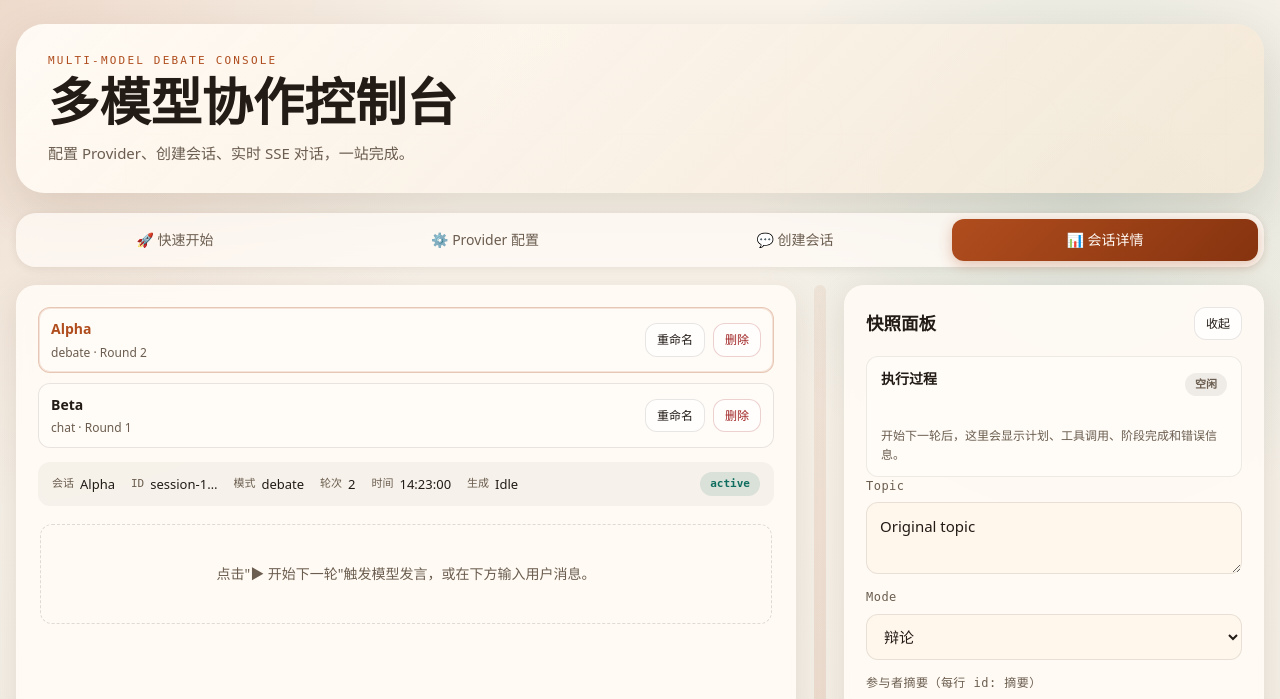
Test case: App session management › shows a current time label and supports renaming and deleting sessions
Click the 1st button "重命名".
click(675, 340)  # box top-left (645, 323), bottom-right (705, 357)
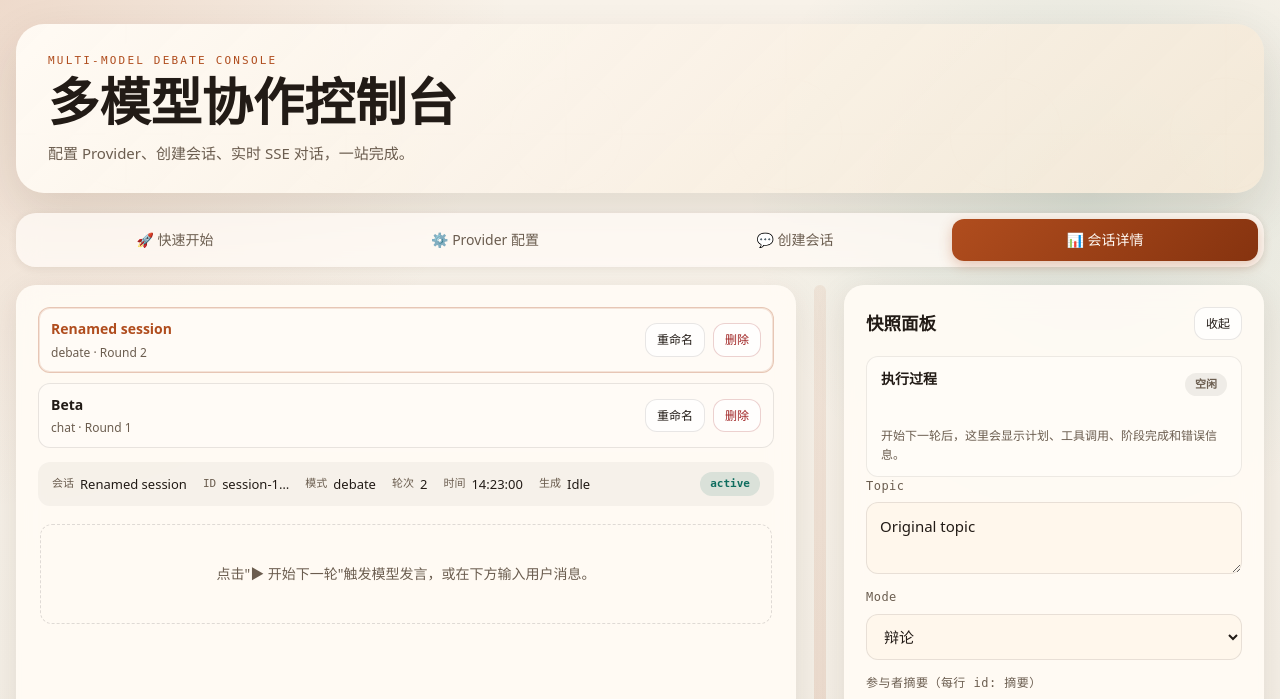
Expected: the text "Renamed session" is shown, top-left (51, 318), bottom-right (172, 341)
Click the 2nd button "删除".
click(737, 416)  # box top-left (713, 399), bottom-right (761, 432)
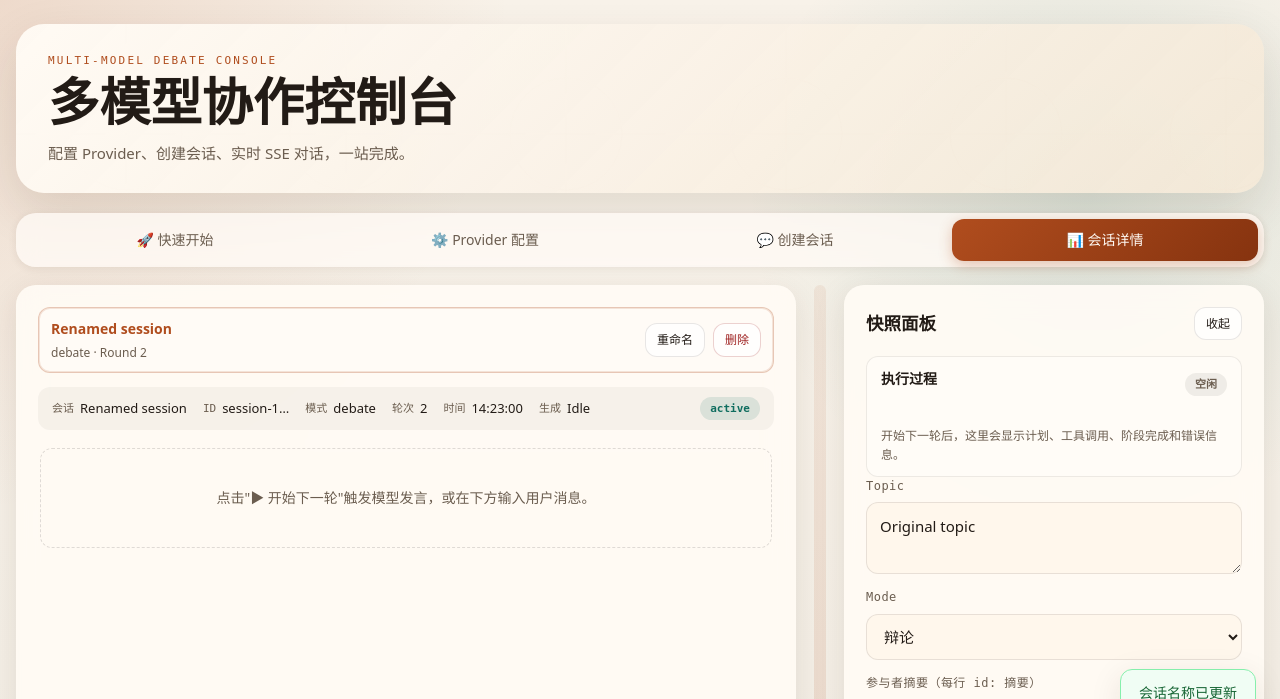
Expected: the text "Beta" is gone
